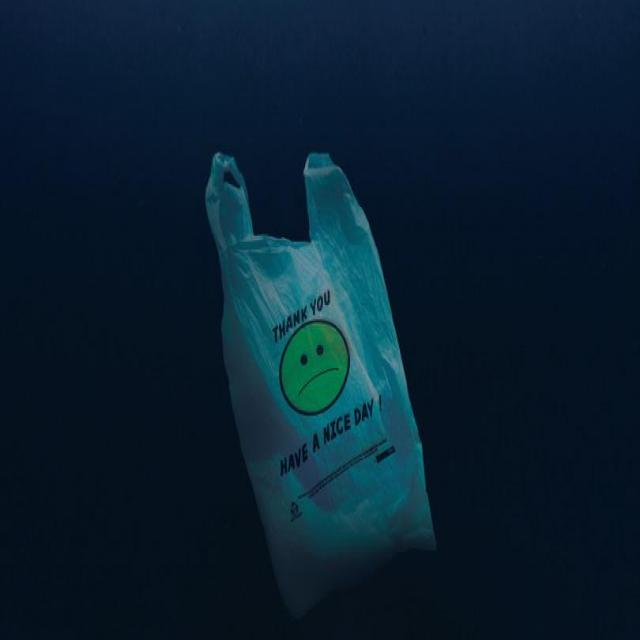plastic_bag: (186, 105, 458, 640)
